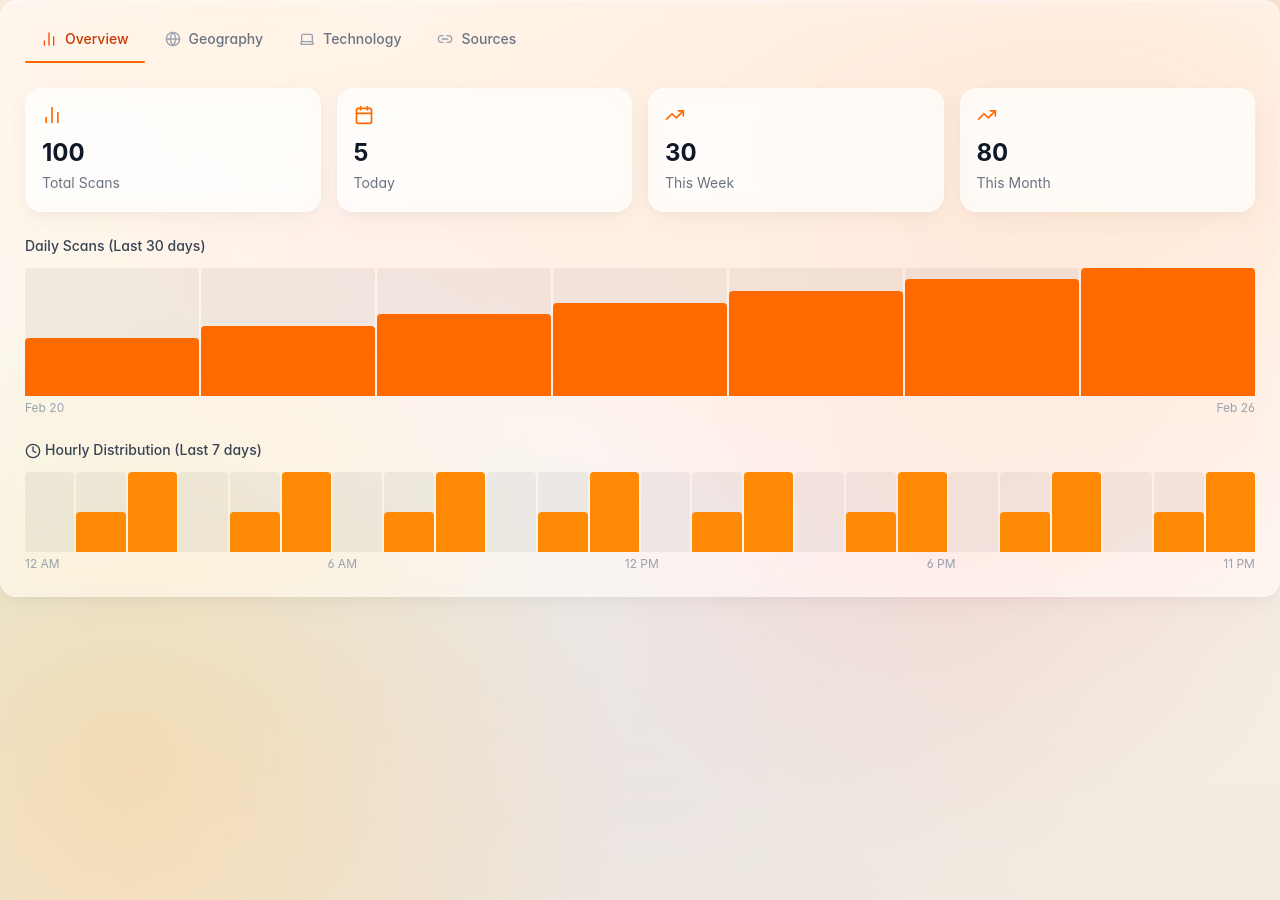
Test case: AnalyticsCharts › tab rendering › switches to Technology tab on click
The width and height of the screenshot is (1280, 900).
Click the tab "Technology". click: (350, 39)
box: [283,17,418,61]
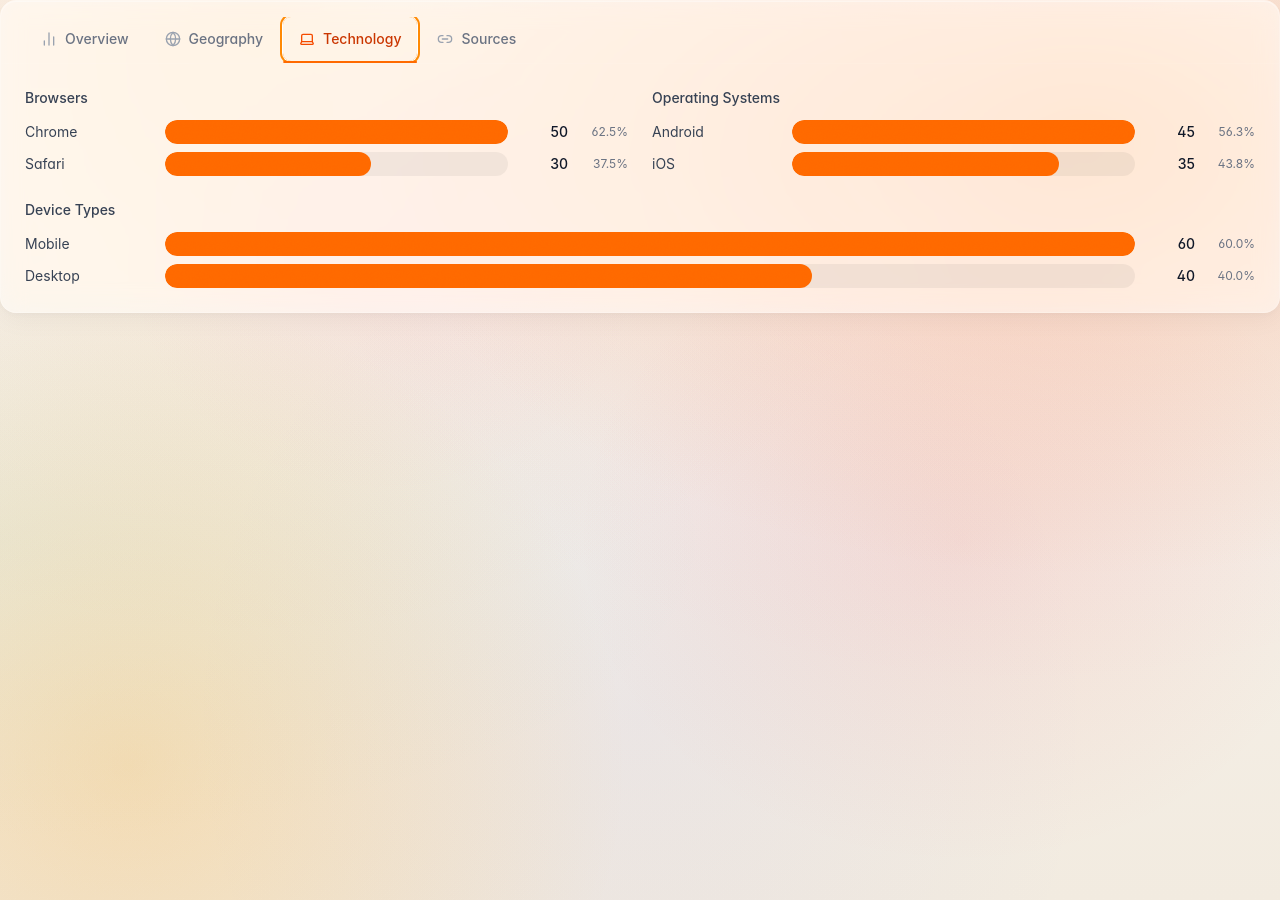
Expected: the heading "Browsers" is shown, [25,89,88,106]
Expected: the heading "Operating Systems" is shown, [652,89,780,106]
